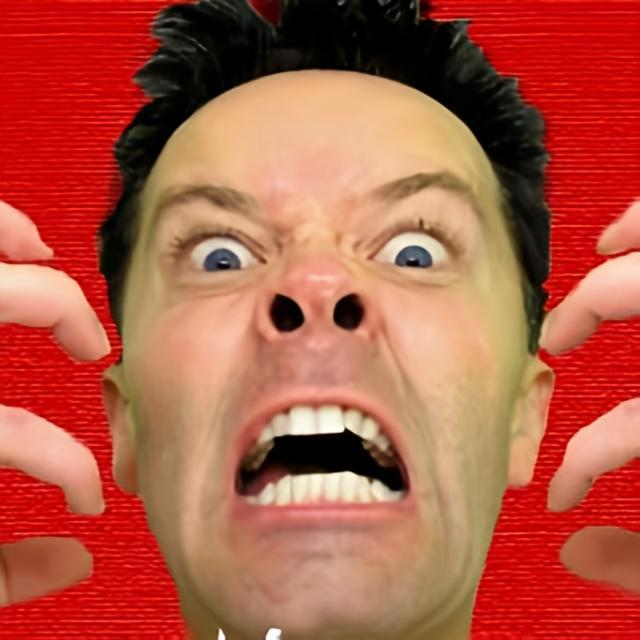anger: (127, 80, 515, 640)
